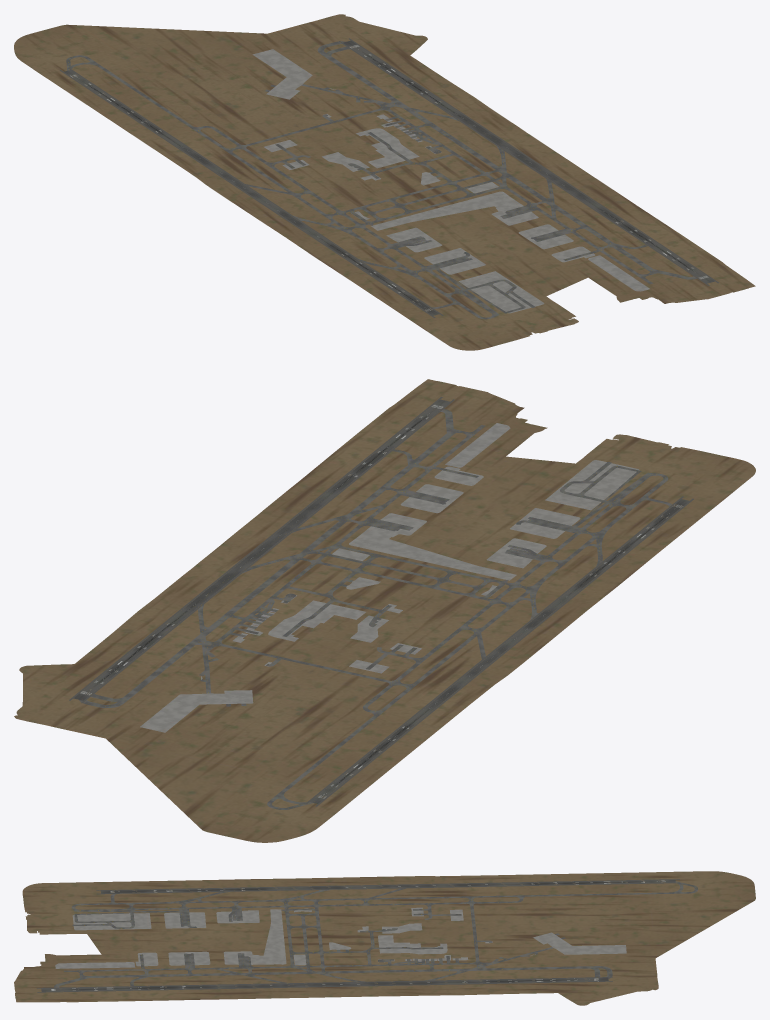
File: scl_placa_campo.glb
The picture shows the model from 3 angles, top to bottom: view 1: azimuth 30°, elevation 25°; view 2: azimuth 150°, elevation 25°; view 3: azimuth 270°, elevation 25°; orthographic projection. The views are drawn at different scales.
Visible parts, largest first — view 1: scl_placa_campo; view 2: scl_placa_campo; view 3: scl_placa_campo.
Boxes of the visible parts, <box> form: scl_placa_campo: <box>14,14,755,350</box>; scl_placa_campo: <box>14,379,755,842</box>; scl_placa_campo: <box>14,871,755,1005</box>.
Size of the model in its own units: 2170 by 0.12 by 5055.
Materials: 8 (7 with a texture image).
